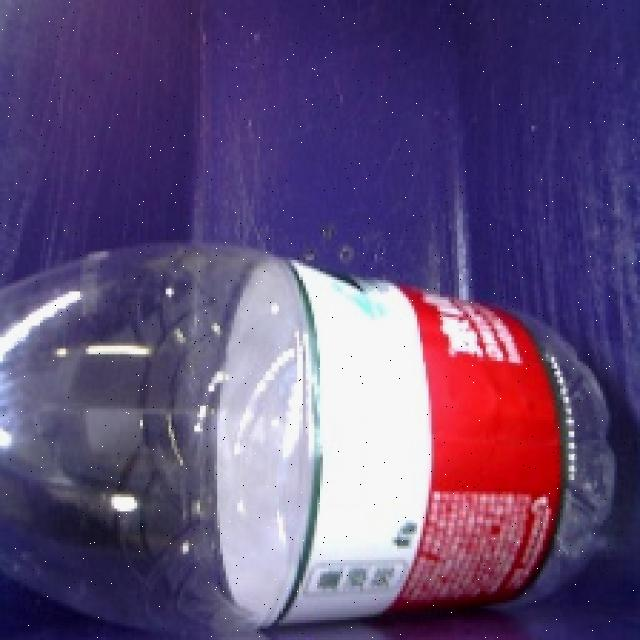plastic: (0, 211, 623, 640)
